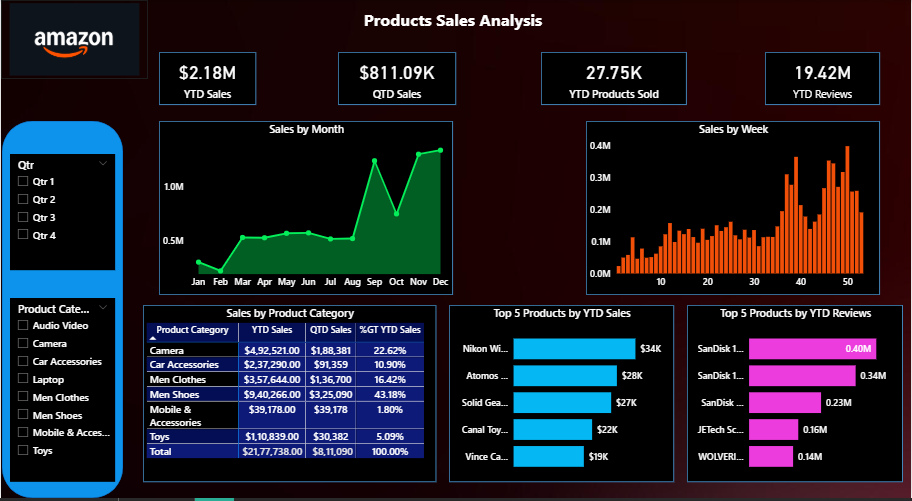

The page's visual inventory and layout, read from the dashboard file:
{"tool":"powerbi","page":{"name":"Page 1","canvas":[1480,810],"ordinal":0},"visuals":[{"type":"image","box":[0,0,239.1,128.5],"z":0},{"type":"textbox","box":[471.7,8.1,527,56.9],"z":1000},{"type":"shape","box":[1.6,196.8,196.8,613.2],"z":2000},{"type":"card","fields":{"Values":["Amazon_Data.YTD Sales"]},"box":[257,84.6,157.8,86.2],"z":3000},{"type":"card","fields":{"Values":["Amazon_Data.QTD Sales"]},"box":[548.1,84.6,191.9,86.2],"z":4000},{"type":"card","fields":{"Values":["Amazon_Data.YTD Products Sold"]},"box":[878.3,84.6,237.5,86.2],"z":5000},{"type":"card","fields":{"Values":["Amazon_Data.YTD Reviews"]},"box":[1242.7,84.6,187,86.2],"z":6000},{"type":"areaChart","title":"Sales by Month","fields":{"Category":["Date.Month"],"Y":["Sum(Amazon_Data.Price(Dollar))"]},"box":[257,196.8,478.2,283],"z":7000},{"type":"columnChart","title":"Sales by Week","fields":{"Category":["Date.Week"],"Y":["Sum(Amazon_Data.Price(Dollar))"]},"box":[951.5,196.8,478.2,283],"z":8000},{"type":"pivotTable","title":"Sales by Product Category","fields":{"Rows":["Amazon_Data.Product Category"],"Values":["Amazon_Data.YTD Sales","Amazon_Data.QTD Sales","Divide(Amazon_Data.YTD Sales, ScopedEval(Amazon_Data.YTD Sales, []))"]},"box":[231,496.1,476.6,287.9],"z":9000},{"type":"barChart","title":"Top 5 Products by YTD Sales","fields":{"Category":["Amazon_Data.Product Description"],"Y":["Amazon_Data.YTD Sales"]},"box":[728.7,496.1,366,287.9],"z":10000},{"type":"barChart","title":"Top 5 Products by YTD Reviews","fields":{"Category":["Amazon_Data.Product Description"],"Y":["Amazon_Data.YTD Reviews"]},"box":[1115.8,496.1,351.3,287.9],"z":11000},{"type":"slicer","fields":{"Values":["Date.Qtr"]},"box":[14.6,250.5,170.8,188.7],"z":12000},{"type":"slicer","fields":{"Values":["Amazon_Data.Product Category"]},"box":[14.6,484.7,170.8,299.3],"z":13000}]}

Visuals, with their boxes in screenshot pixels (x1, y1, x2, y2), scaled from the page's 1480x810 canvas onto the 912x501 screenshot:
image: {"left": 0, "top": 0, "right": 147, "bottom": 79}
textbox: {"left": 291, "top": 5, "right": 615, "bottom": 40}
shape: {"left": 1, "top": 122, "right": 122, "bottom": 500}
card - Amazon_Data.YTD Sales: {"left": 158, "top": 52, "right": 256, "bottom": 106}
card - Amazon_Data.QTD Sales: {"left": 338, "top": 52, "right": 456, "bottom": 106}
card - Amazon_Data.YTD Products Sold: {"left": 541, "top": 52, "right": 688, "bottom": 106}
card - Amazon_Data.YTD Reviews: {"left": 766, "top": 52, "right": 881, "bottom": 106}
"Sales by Month" areaChart: {"left": 158, "top": 122, "right": 453, "bottom": 297}
"Sales by Week" columnChart: {"left": 586, "top": 122, "right": 881, "bottom": 297}
"Sales by Product Category" pivotTable: {"left": 142, "top": 307, "right": 436, "bottom": 485}
"Top 5 Products by YTD Sales" barChart: {"left": 449, "top": 307, "right": 675, "bottom": 485}
"Top 5 Products by YTD Reviews" barChart: {"left": 688, "top": 307, "right": 904, "bottom": 485}
slicer - Date.Qtr: {"left": 9, "top": 155, "right": 114, "bottom": 272}
slicer - Amazon_Data.Product Category: {"left": 9, "top": 300, "right": 114, "bottom": 485}
